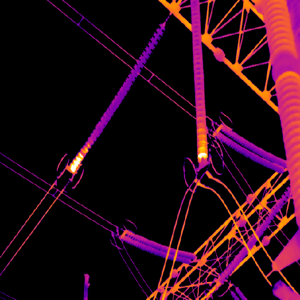insulator: (69, 18, 165, 173), (218, 186, 291, 282), (212, 118, 288, 174), (119, 225, 195, 263)
